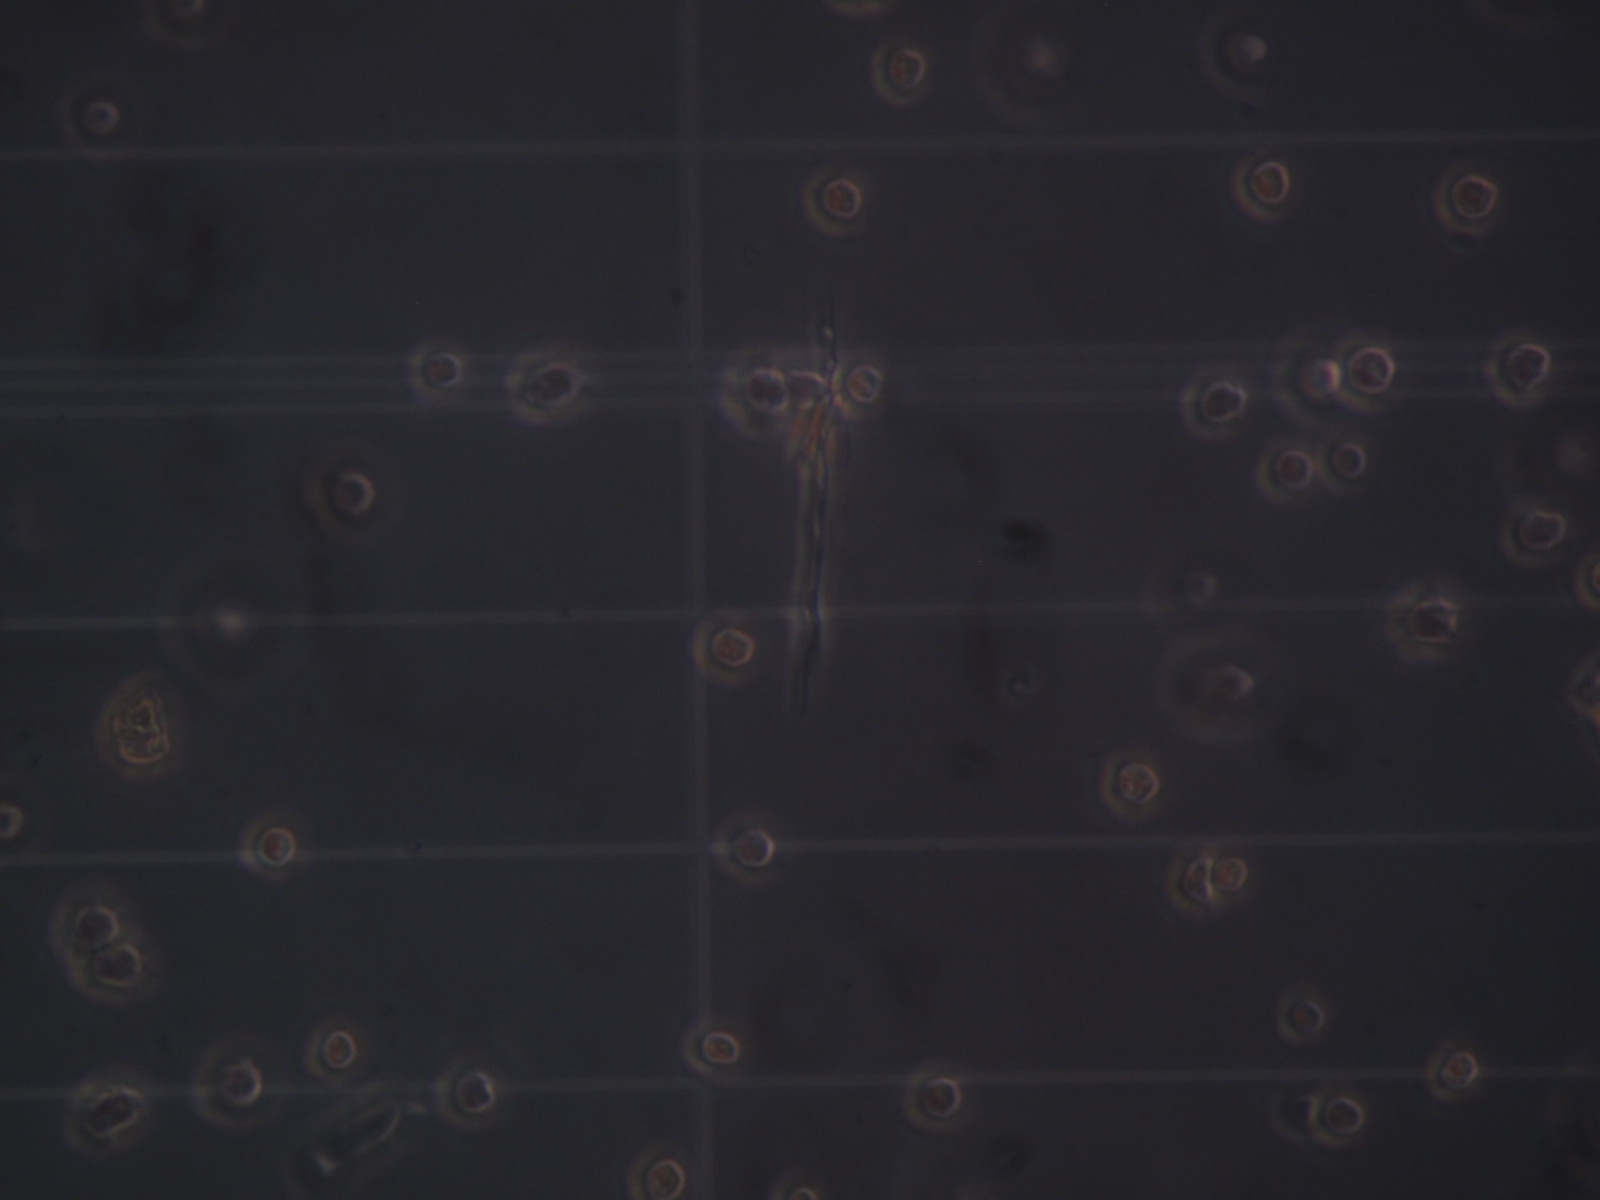hemo: (1157, 637, 1257, 744), (191, 1041, 265, 1129), (64, 1079, 142, 1153), (1274, 339, 1340, 425), (505, 350, 582, 425), (1202, 19, 1270, 100), (307, 460, 375, 541), (1385, 587, 1456, 662), (57, 79, 121, 161), (719, 362, 790, 435), (1484, 335, 1551, 408), (1335, 337, 1397, 415), (1498, 500, 1569, 568), (72, 943, 146, 1005), (1180, 373, 1249, 440), (1432, 166, 1498, 236), (712, 814, 775, 886), (50, 892, 121, 955), (433, 1060, 496, 1129), (1099, 753, 1162, 821), (690, 619, 755, 684), (238, 814, 299, 881), (1232, 154, 1291, 222), (803, 171, 863, 237), (903, 1068, 963, 1132), (1255, 440, 1314, 503), (682, 1020, 741, 1082), (871, 42, 927, 106), (304, 1021, 360, 1083), (1165, 846, 1214, 914), (407, 342, 464, 398), (1311, 1089, 1366, 1148), (833, 357, 884, 418), (1425, 1042, 1479, 1100), (627, 1147, 687, 1200), (1318, 434, 1368, 495), (1271, 1084, 1319, 1143), (1276, 992, 1327, 1044), (1567, 649, 1600, 727), (1208, 845, 1250, 901), (1, 783, 26, 868), (1574, 550, 1600, 611)
